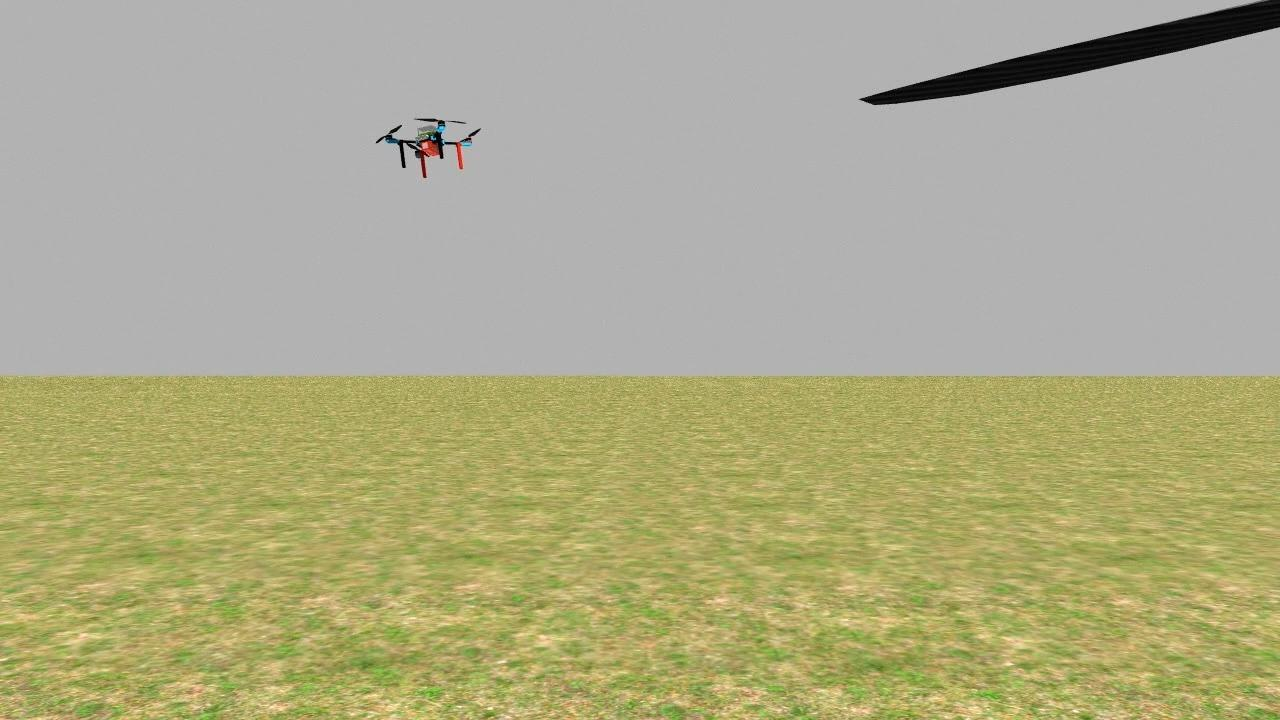UAV: (358, 102, 496, 188)
